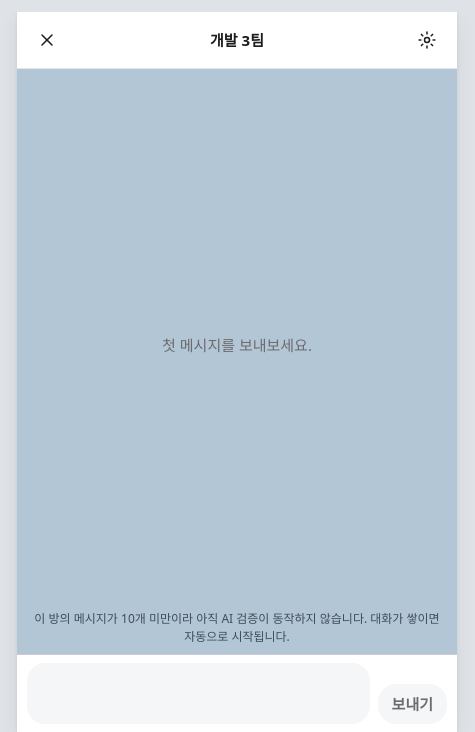
Scenario: 대화 팝업 › 닫으면 포인터가 비워지고 팝업이 사라진다
Click the button with test id "chat-close" at (47, 40), box 25,18 -> 69,62
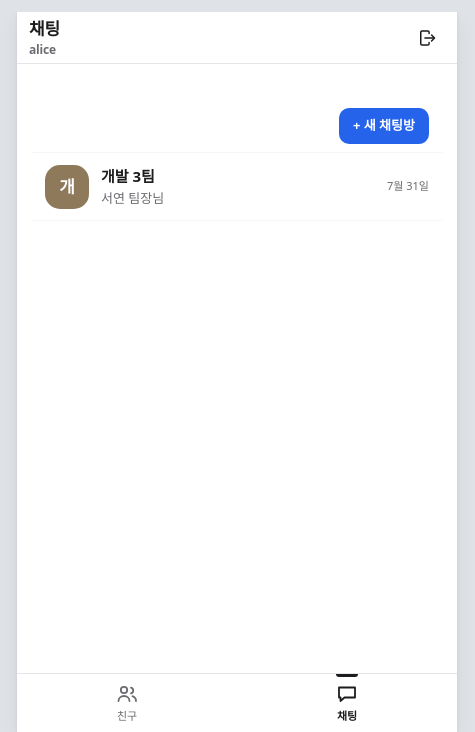
Expected: the element with test id "view-rooms" is shown, 31,100 -> 443,221
Expected: the element with test id "chat-overlay" is gone
